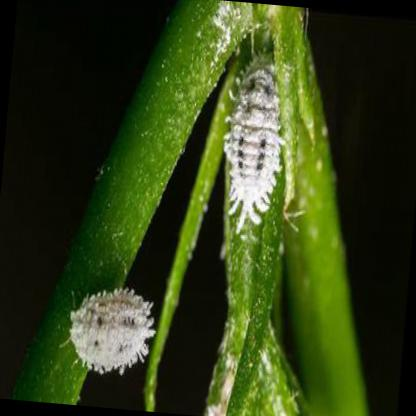mealy bug: (227, 56, 283, 230), (67, 290, 155, 371)
